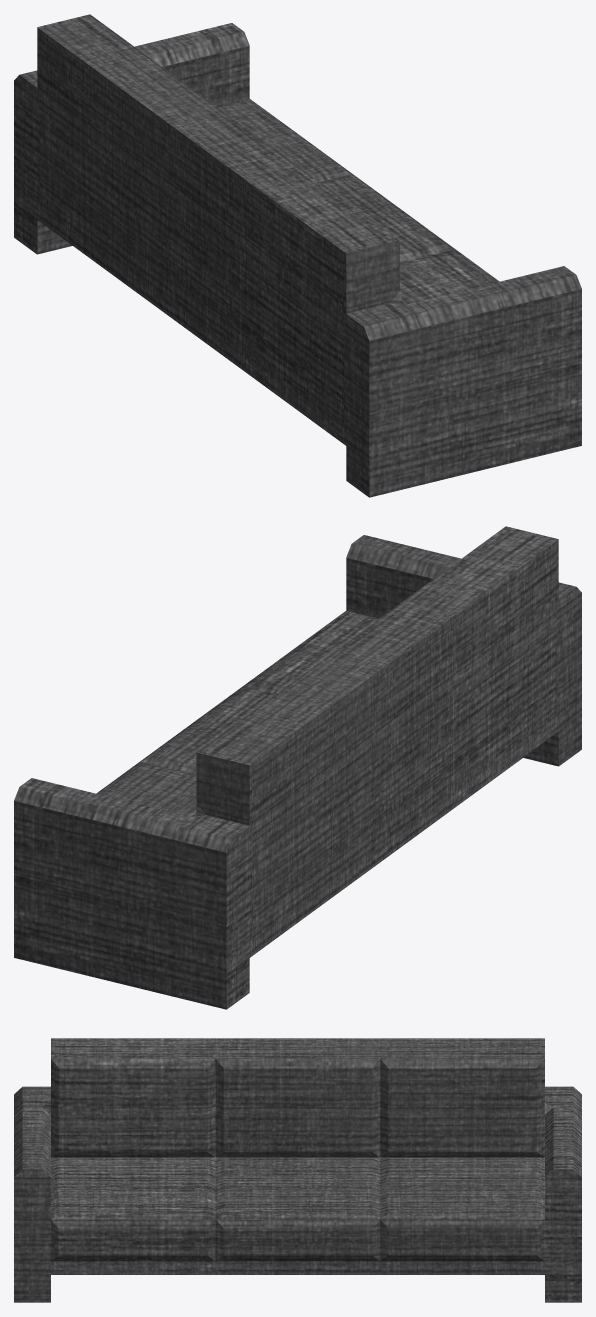
The model's file is SOFA_02.fbx.
3 views of the same model, one above another, from view 1: azimuth 30°, elevation 25°; view 2: azimuth 150°, elevation 25°; view 3: azimuth 270°, elevation 25° (orthographic). The views are drawn at different scales.
Visible parts, largest first — view 1: SOFA_02; view 2: SOFA_02; view 3: SOFA_02.
Boxes of the visible parts, x1=… form: SOFA_02: x1=14, y1=14, x2=581, y2=497; SOFA_02: x1=14, y1=526, x2=581, y2=1009; SOFA_02: x1=14, y1=1038, x2=581, y2=1302.
Bounding box in the file's own units: 107 × 108 × 305.
